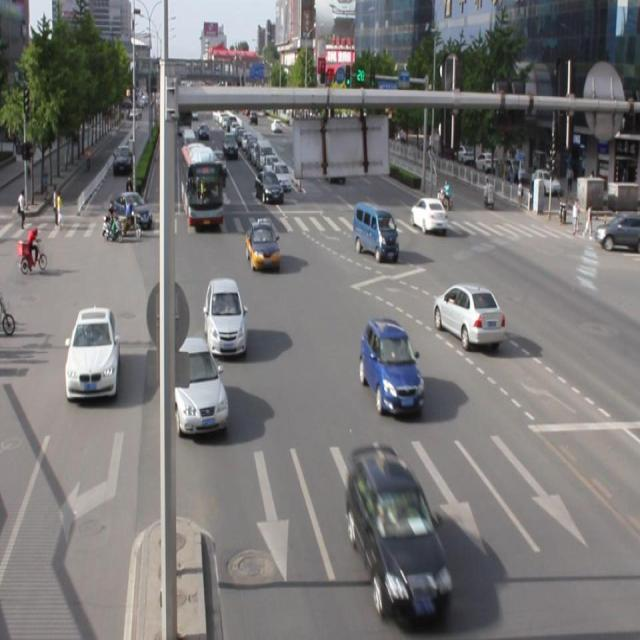car: (345, 444, 450, 619), (359, 316, 424, 414), (168, 334, 228, 433), (64, 304, 119, 400), (433, 282, 504, 346), (203, 277, 247, 357), (245, 220, 281, 272), (411, 196, 446, 234)
truck: (353, 201, 399, 261)
